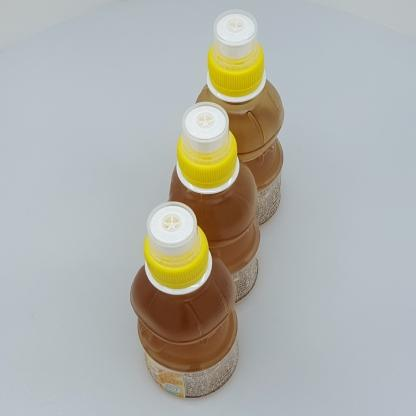--------220ML: (128, 201, 240, 398)
